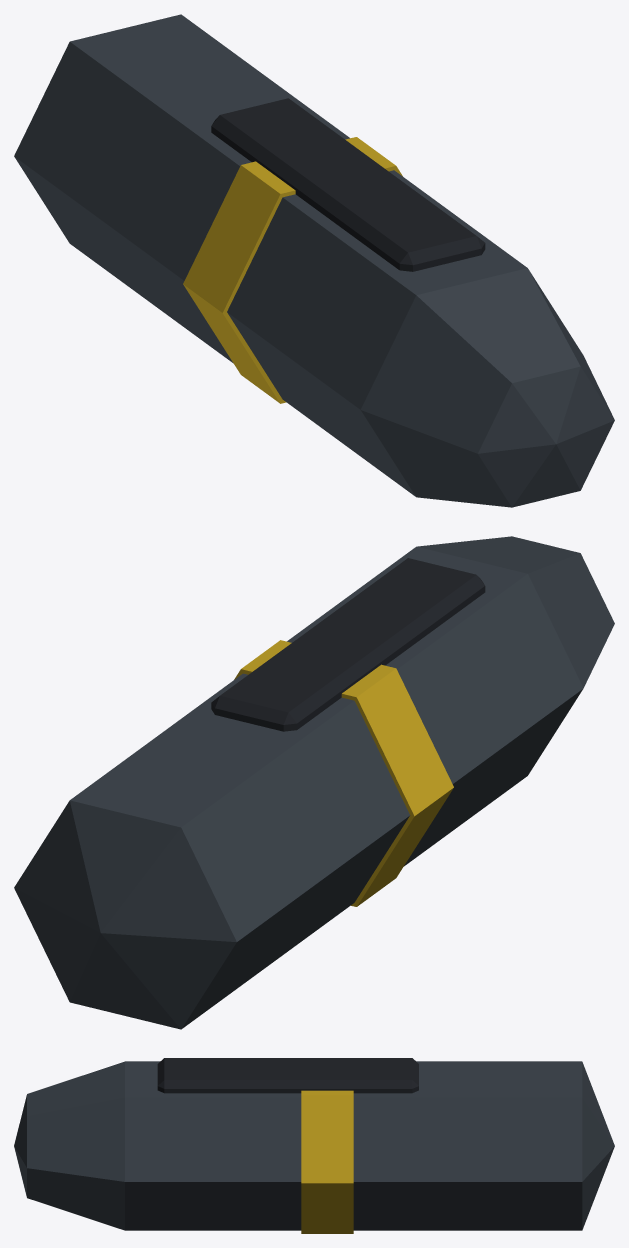
The model's file is klegg_body.obj.
The picture shows the model from 3 angles, top to bottom: view 1: azimuth 30°, elevation 25°; view 2: azimuth 150°, elevation 25°; view 3: azimuth 270°, elevation 25°; orthographic projection. The views are drawn at different scales.
Visible parts, largest first — view 1: klegg_body; view 2: klegg_body; view 3: klegg_body.
Boxes of the visible parts, x1,y1,x2,y2 form: klegg_body: [14, 14, 614, 507]; klegg_body: [14, 536, 614, 1029]; klegg_body: [14, 1058, 614, 1233].
Size of the model in its own units: 0.27 by 0.2469 by 0.92.
